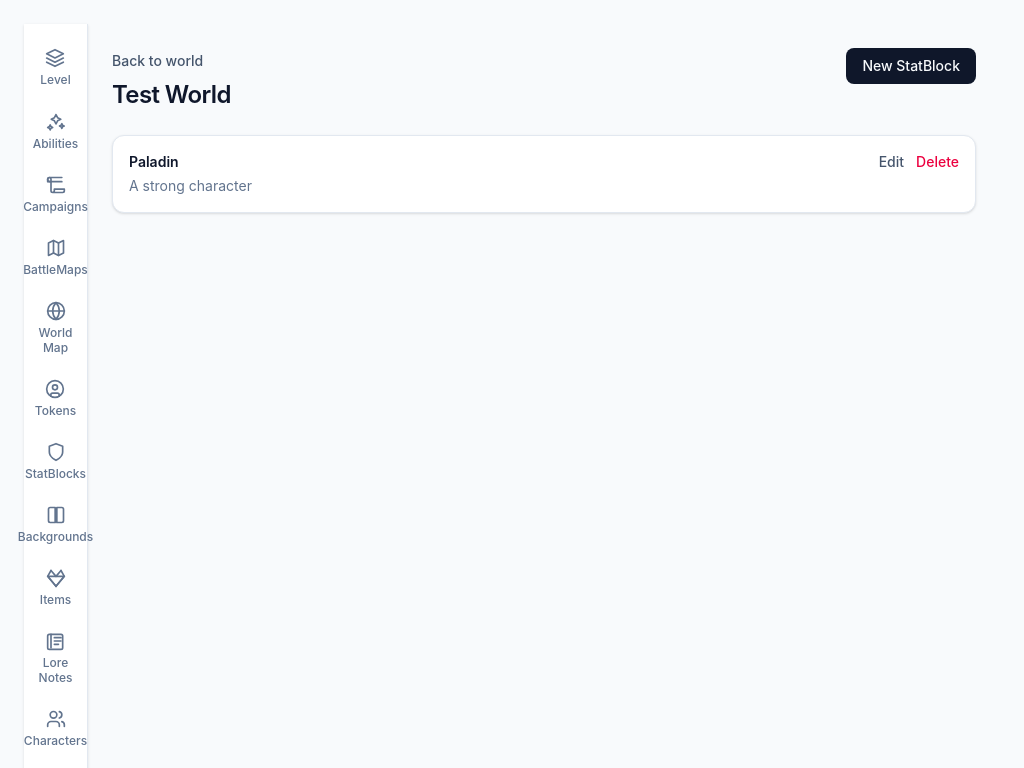
StatBlocksPage › delete statblock › opens delete confirmation when Delete is clicked
Click the button "Delete" at (938, 162), box [916, 152, 959, 172]
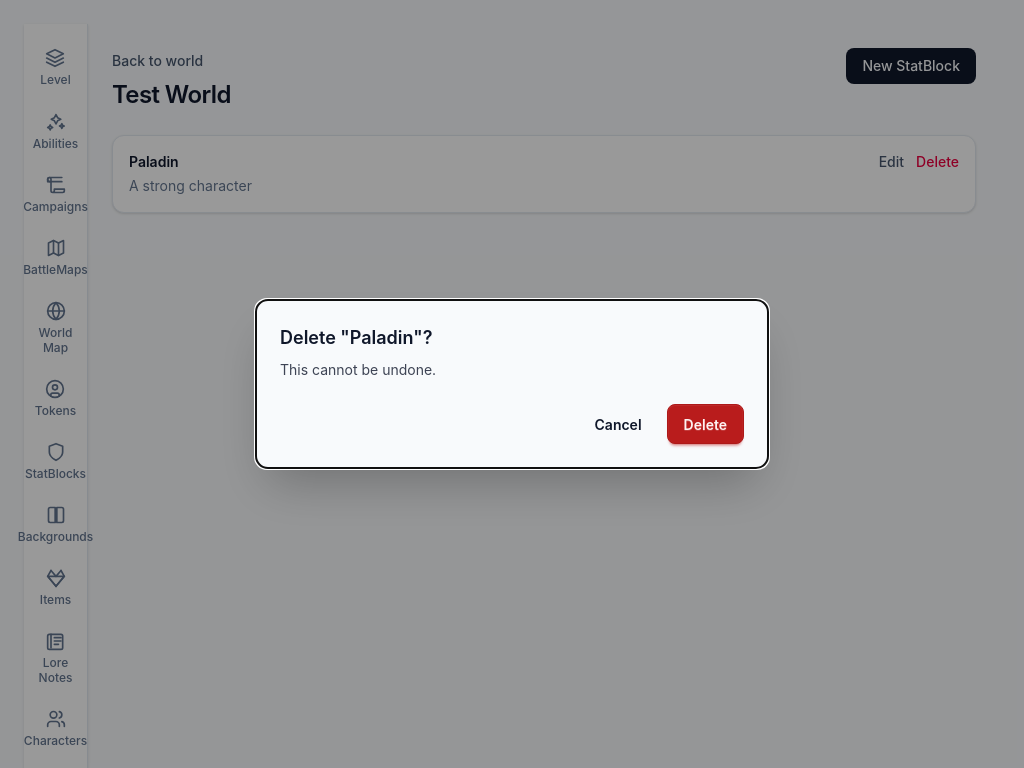
Check: the dialog "Delete \"Paladin\"? This cannot be undone. Cancel Delete" is shown, box [256, 300, 768, 468]
Check: the text "This cannot be undone." is shown, box [280, 361, 436, 378]
